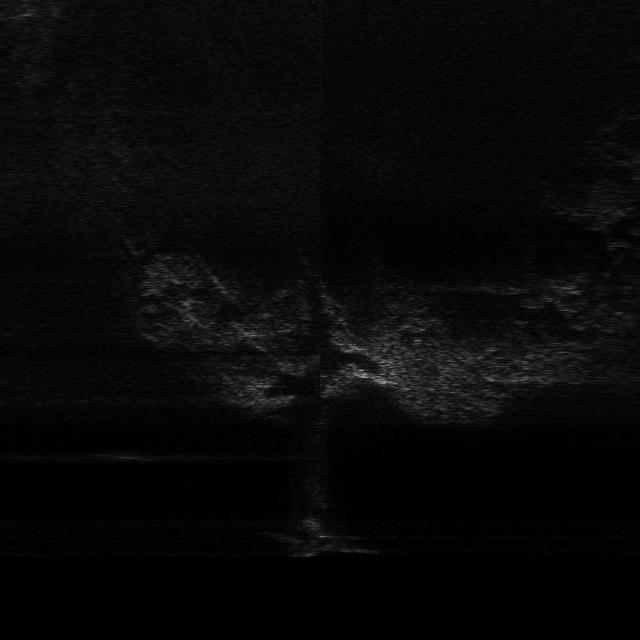plane: (259, 517, 382, 558)
